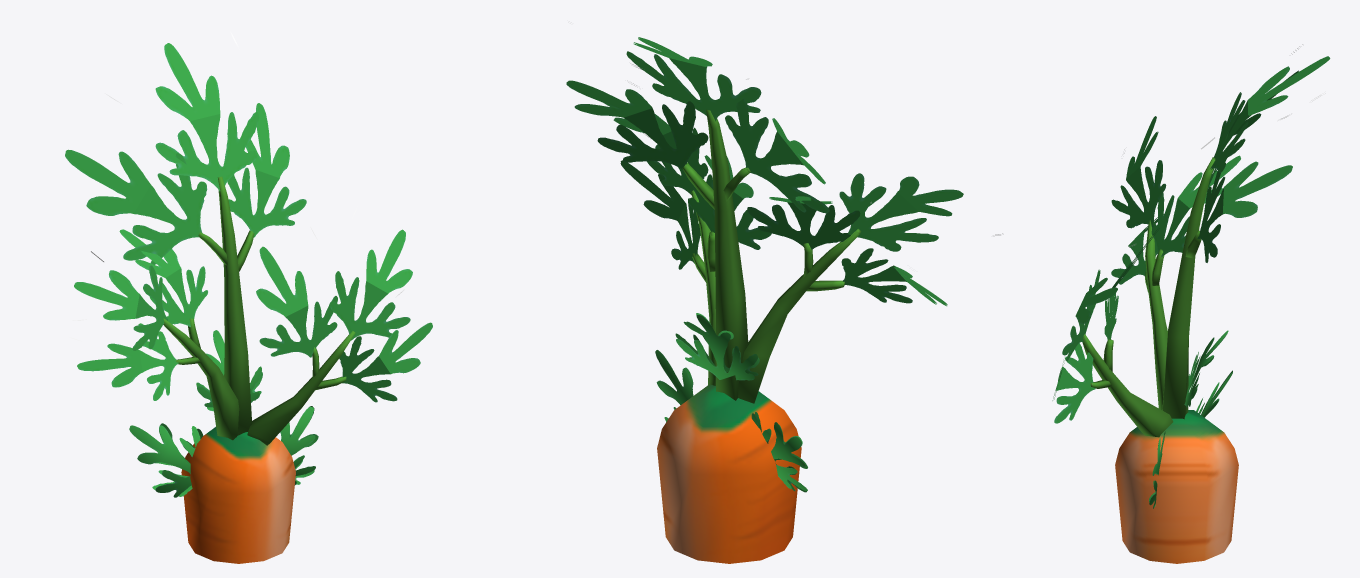
The model's file is Carrot_all_form.FBX.
The picture shows the model from 3 angles, left to right: view 1: azimuth 30°, elevation 25°; view 2: azimuth 150°, elevation 25°; view 3: azimuth 270°, elevation 25°; orthographic projection. The views are drawn at different scales.
Parts seen in each view (by area): view 1: Night_carrot_leaf, Night_carrot, Child_carrot_leaf; view 2: Night_carrot, Night_carrot_leaf, Child_carrot_leaf; view 3: Night_carrot, Night_carrot_leaf, Child_carrot_leaf.
Part boxes in pixels (<box>): Night_carrot_leaf: <box>65,32,432,402</box>; Night_carrot: <box>163,176,355,563</box>; Child_carrot_leaf: <box>129,330,318,497</box>; Night_carrot: <box>657,109,861,563</box>; Night_carrot_leaf: <box>566,21,1003,306</box>; Child_carrot_leaf: <box>655,313,807,492</box>; Night_carrot: <box>1082,157,1238,563</box>; Night_carrot_leaf: <box>1052,44,1330,423</box>; Child_carrot_leaf: <box>1149,330,1232,508</box>.
Size of the model in its own units: 2.57 by 2.92 by 1.6.
